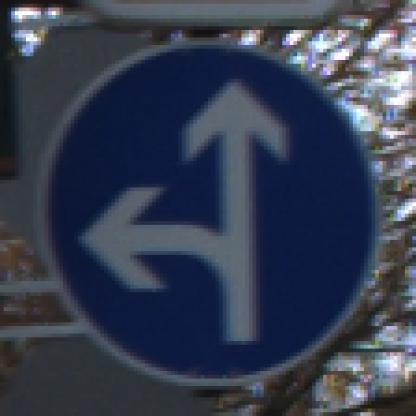Straight or Left: (38, 35, 384, 383)
